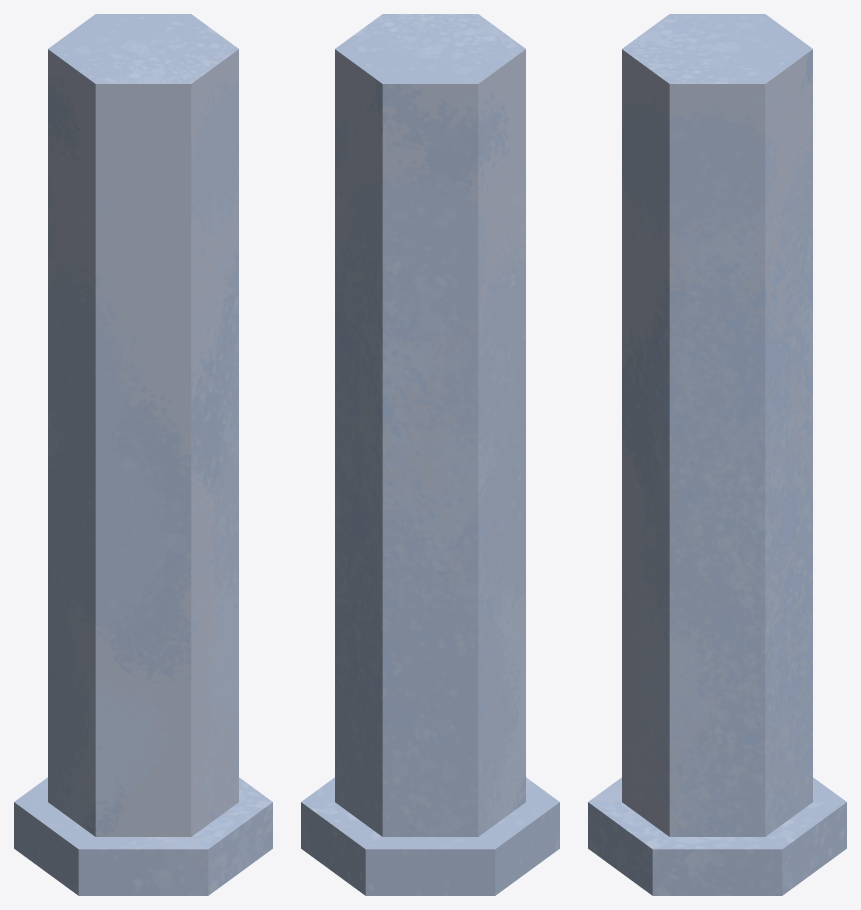
File: SM_museumPillar1.fbx
3 renders of one model, left to right at view 1: azimuth 30°, elevation 25°; view 2: azimuth 150°, elevation 25°; view 3: azimuth 270°, elevation 25°, orthographic.
Visible parts, largest first — view 1: pillar1; view 2: pillar1; view 3: pillar1.
Boxes of the visible parts, x1=… form: pillar1: x1=14, y1=14, x2=272, y2=895; pillar1: x1=301, y1=14, x2=559, y2=895; pillar1: x1=588, y1=14, x2=846, y2=895.
Bounding box in the file's own units: 12.49 × 49.14 × 14.42.
1 material, 1 textured.
